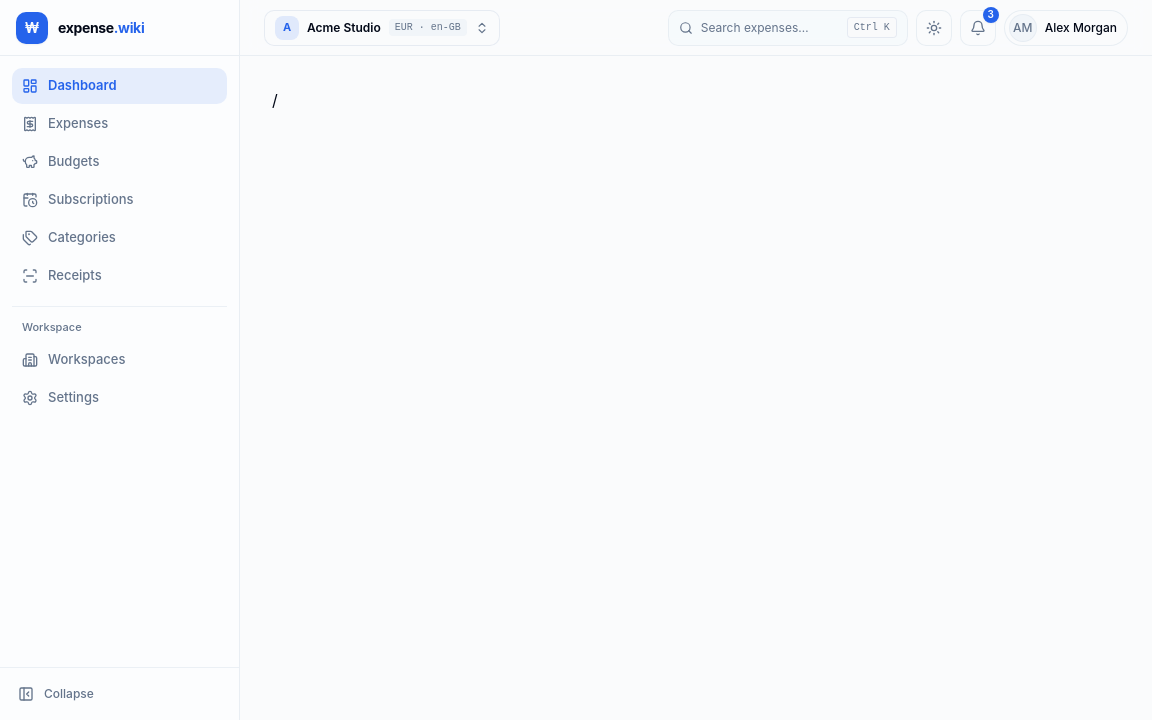
Test case: AppShell, Header, and Sidebar layout › renders clean sidebar navigation without scaffold or duplicate tenant cards and persists collapse state
Expected: the link "Dashboard" is shown, [12,68,227,104]
Expected: the link "Expenses" is shown, [22,115,108,132]
Click the button with aria-label "Collapse sidebar". click: point(120, 694)
box: [8,676,231,712]
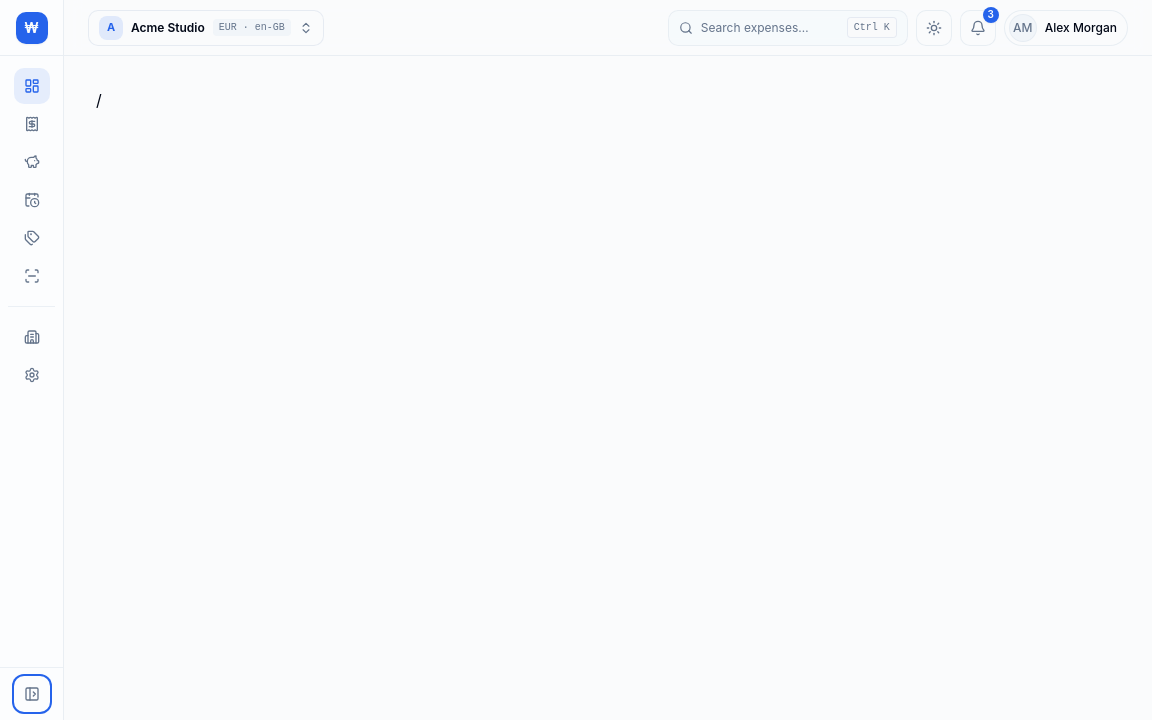
Expected: the button named "Expand sidebar" is shown, [14,676,50,712]
